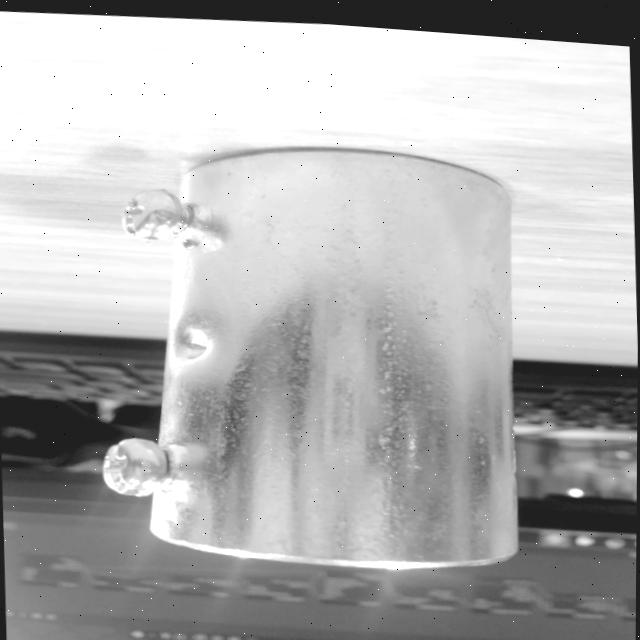Co_Nho: (102, 140, 531, 573)
